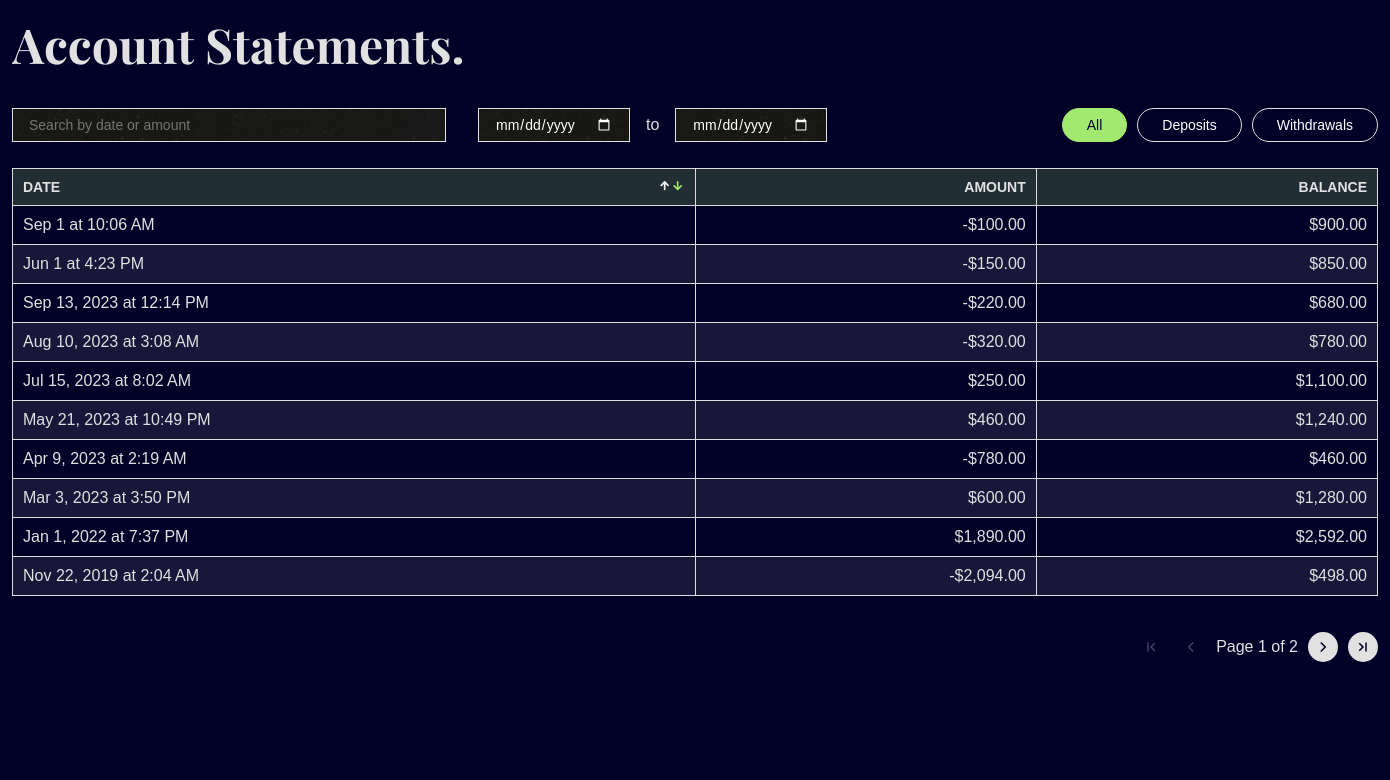
Statements Component › paginates the data correctly when there are more than 10 items
The width and height of the screenshot is (1390, 780).
Check: the text "Page 1 of 2" is shown, box [1216, 638, 1298, 656]
Check: the text "-$398.00" is not shown
Click the button with test id "next-page" at (1323, 647), box [1308, 632, 1338, 662]
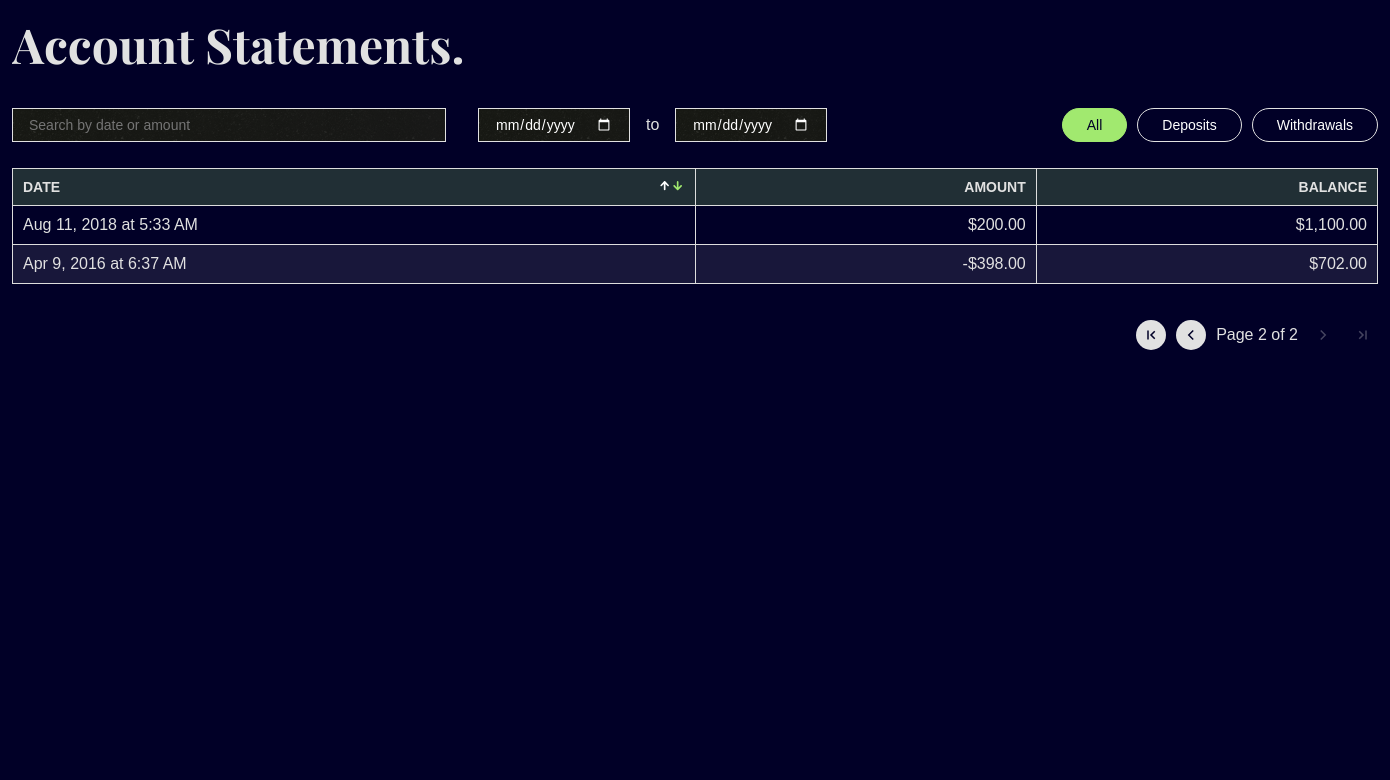
Check: the text "Page 2 of 2" is shown, box [1216, 326, 1298, 344]
Check: the text "-$220.00" is gone
Check: the button with test id "last-page" is disabled, box [1348, 320, 1378, 350]
Click the button with test id "prev-page" at (1191, 335), box [1176, 320, 1206, 350]
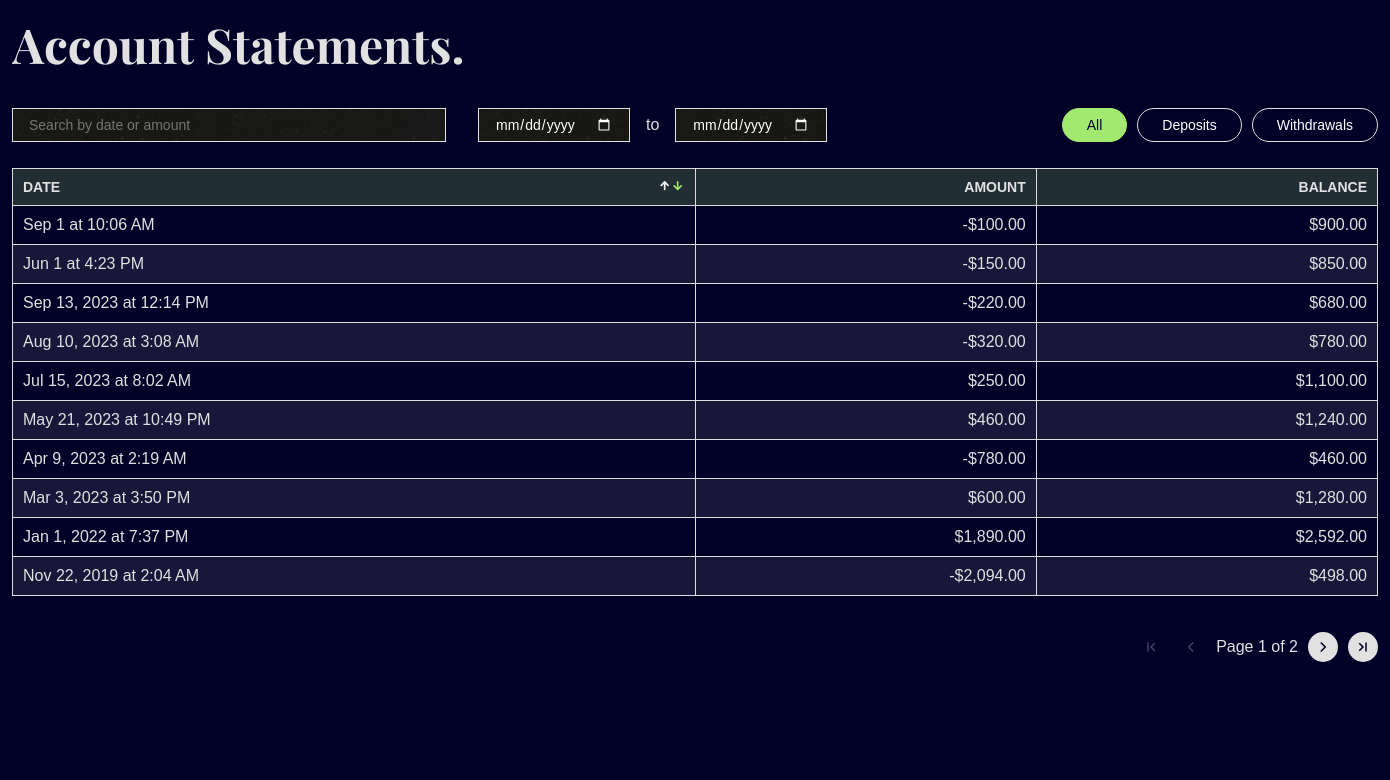
Check: the text "Page 1 of 2" is shown, box [1216, 638, 1298, 656]
Check: the text "-$320.00" is shown, box [695, 323, 1036, 362]
Check: the text "-$2,094.00" is shown, box [695, 557, 1036, 596]
